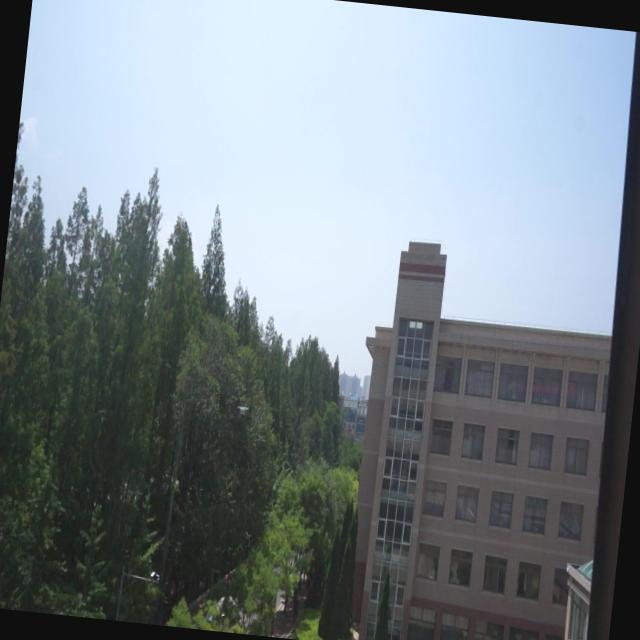drone: (234, 401, 252, 418)
